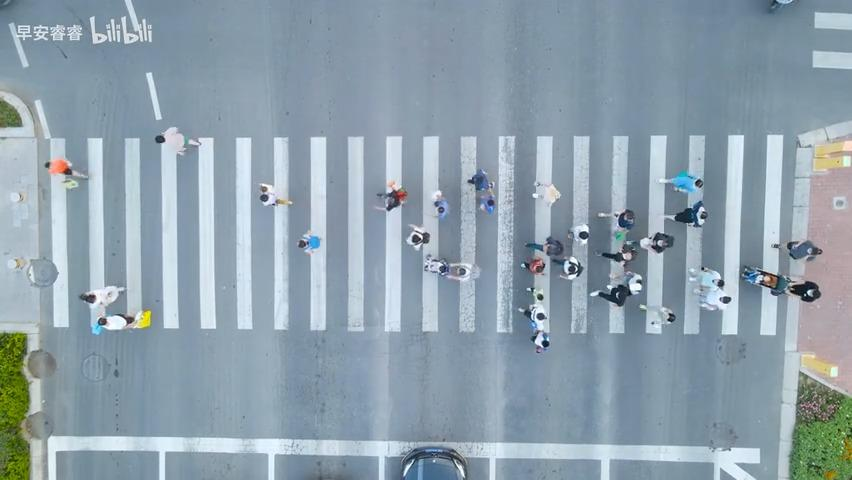Civilian: (688, 266, 731, 311), (589, 271, 642, 307), (516, 303, 549, 353), (423, 253, 480, 281), (741, 265, 791, 295), (78, 285, 126, 316), (154, 126, 201, 156), (93, 309, 151, 333), (660, 199, 708, 227), (771, 239, 822, 262), (593, 243, 638, 267), (657, 171, 703, 194), (44, 158, 88, 181), (375, 180, 407, 211), (688, 266, 724, 293), (524, 235, 564, 257), (258, 182, 293, 207), (597, 208, 635, 231), (551, 255, 583, 280), (638, 303, 676, 324), (532, 180, 561, 207), (639, 231, 674, 253), (785, 280, 820, 302), (405, 223, 430, 251), (467, 168, 494, 191), (297, 230, 321, 255), (431, 189, 450, 219), (520, 256, 545, 275), (567, 223, 589, 244), (531, 330, 549, 353), (479, 192, 495, 213), (525, 285, 543, 300)
